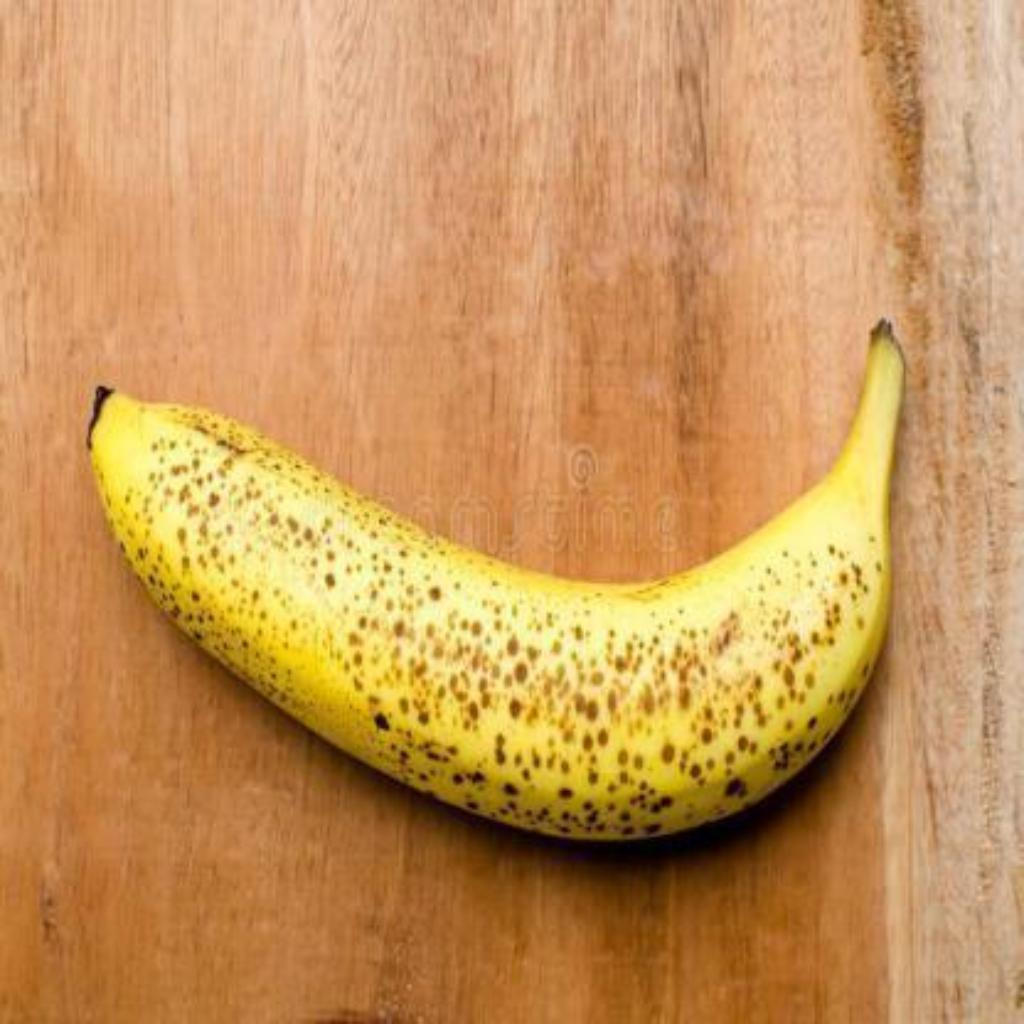banana: (86, 322, 906, 849)
